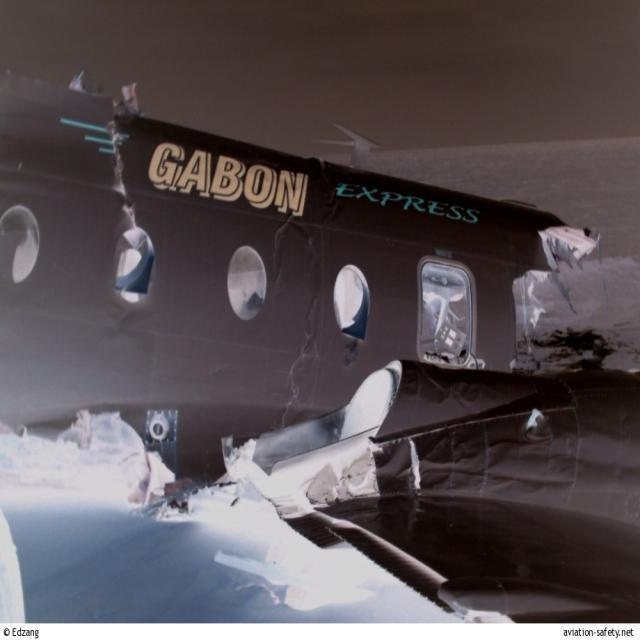crack: (280, 321, 319, 429), (106, 113, 142, 230), (408, 438, 423, 487)
